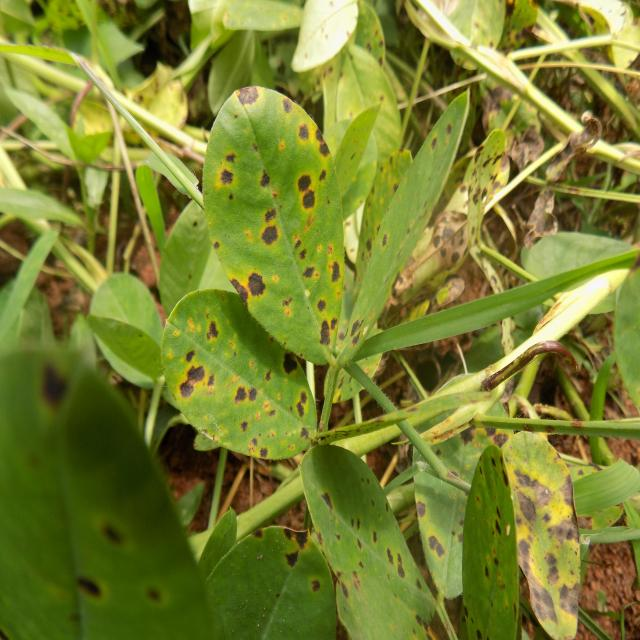Ground nut_tikka leaf spot: (204, 88, 359, 364), (160, 286, 318, 459), (298, 447, 439, 640), (461, 442, 520, 640)
